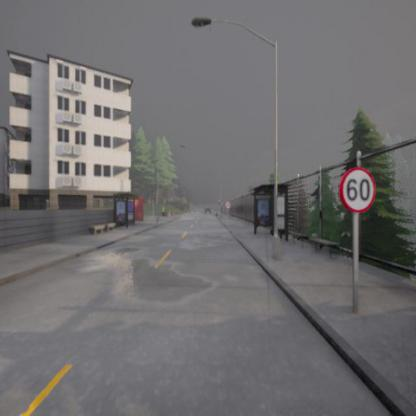traffic_sign_60: (337, 169, 377, 214)
